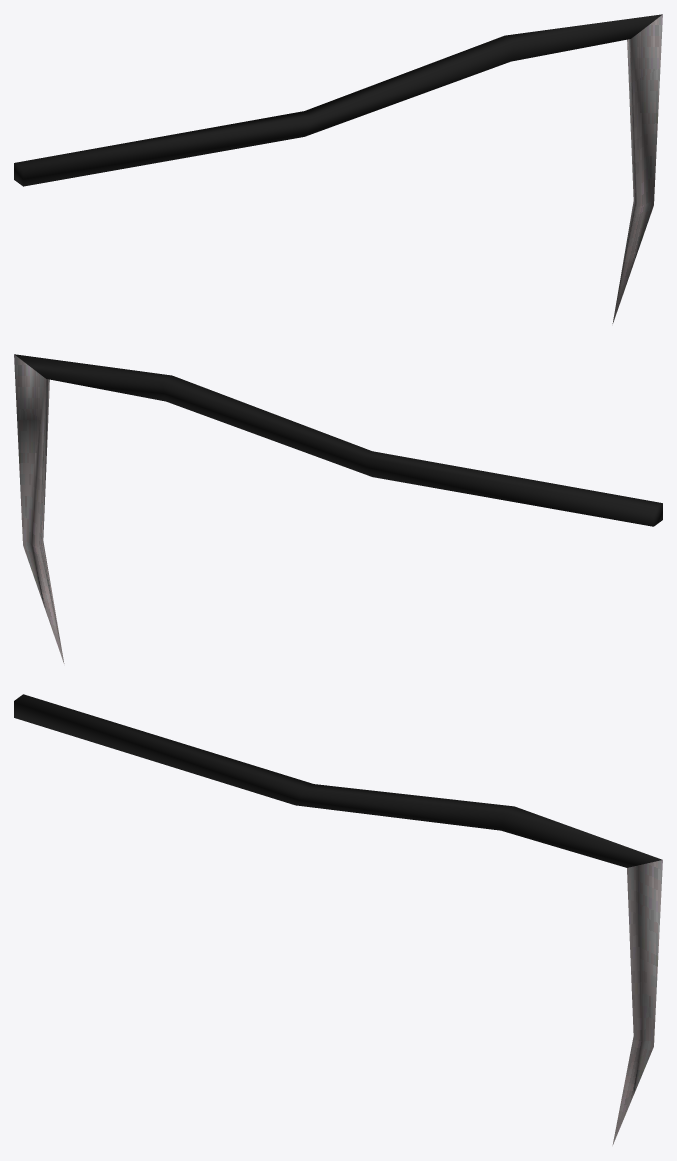
3 renders of one model, top to bottom at view 1: azimuth 30°, elevation 25°; view 2: azimuth 150°, elevation 25°; view 3: azimuth 330°, elevation 25°, orthographic.
Visible parts, largest first — view 1: it39; view 2: it39; view 3: it39.
Part boxes in pixels (x1,y1,x2,y2): it39: (14, 14, 662, 323); it39: (14, 354, 662, 663); it39: (14, 694, 662, 1145).
Bounding box in the file's own units: 5.9 × 2.73 × 0.158.
Materials: 2 (2 with a texture image).
